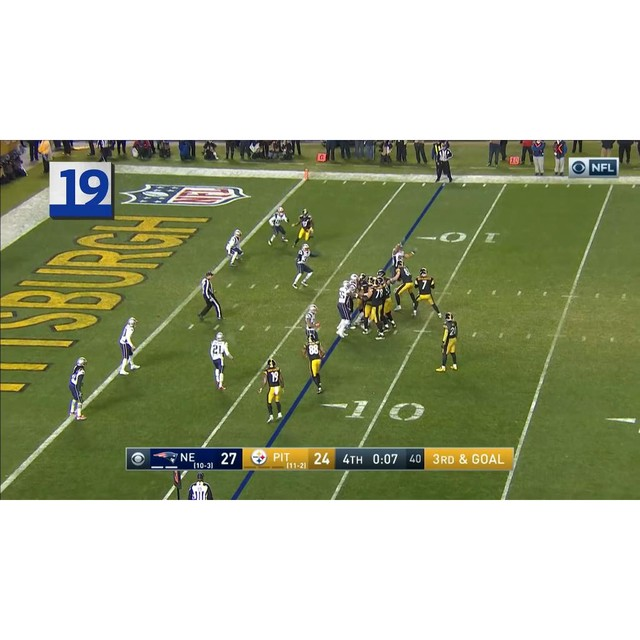american-football-player: (391, 259, 418, 315), (260, 359, 284, 422), (362, 282, 387, 340), (209, 331, 233, 391), (414, 268, 442, 319), (302, 333, 324, 394), (118, 317, 140, 375), (438, 312, 459, 372), (67, 358, 87, 420), (336, 282, 355, 339), (292, 242, 314, 289), (293, 208, 315, 248), (268, 207, 289, 246), (225, 229, 243, 268), (303, 303, 320, 344)
referee: (198, 270, 222, 321), (433, 141, 453, 184)
